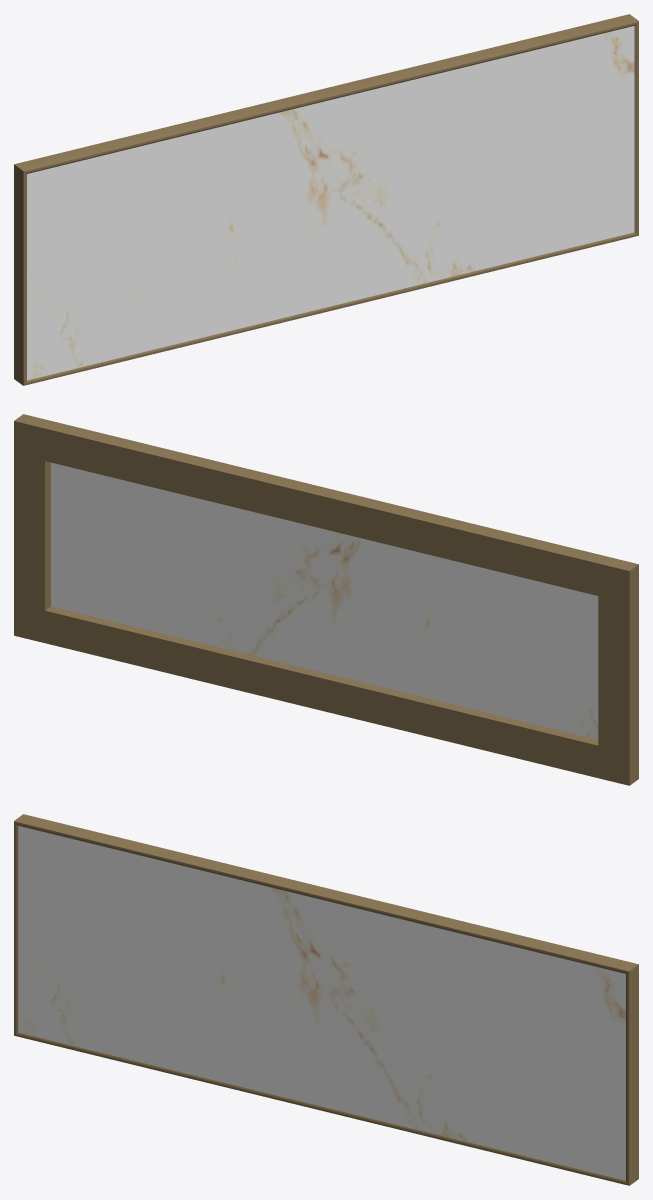
Rendered from RFP-900-300-15.glb.
The picture shows the model from 3 angles, top to bottom: view 1: azimuth 30°, elevation 25°; view 2: azimuth 150°, elevation 25°; view 3: azimuth 330°, elevation 25°; orthographic projection.
Visible parts, largest first — view 1: Object_node, Extrusion, Extrusion_node_0, Extrusion_node_1, Extrusion_node; view 2: Object_node, Extrusion, Extrusion_node_0, Extrusion_node_1, Extrusion_node; view 3: Object_node, Extrusion, Extrusion_node_0, Extrusion_node, Extrusion_node_1.
Part boxes in pixels (x1,y1,x2,y2): Object_node: [27, 26, 634, 380]; Extrusion: [14, 14, 638, 173]; Extrusion_node_0: [24, 232, 638, 385]; Extrusion_node_1: [14, 164, 26, 385]; Extrusion_node: [634, 21, 638, 235]; Object_node: [51, 462, 598, 739]; Extrusion: [14, 414, 638, 595]; Extrusion_node_0: [14, 606, 629, 785]; Extrusion_node_1: [598, 564, 638, 785]; Extrusion_node: [14, 421, 50, 635]; Object_node: [18, 826, 625, 1180]; Extrusion: [14, 814, 638, 973]; Extrusion_node_0: [14, 1032, 628, 1185]; Extrusion_node: [626, 964, 638, 1185]; Extrusion_node_1: [14, 821, 18, 1035].
Size of the model in its own units: 0.9 by 0.3 by 0.0242.
Materials: 2 (1 with a texture image).
